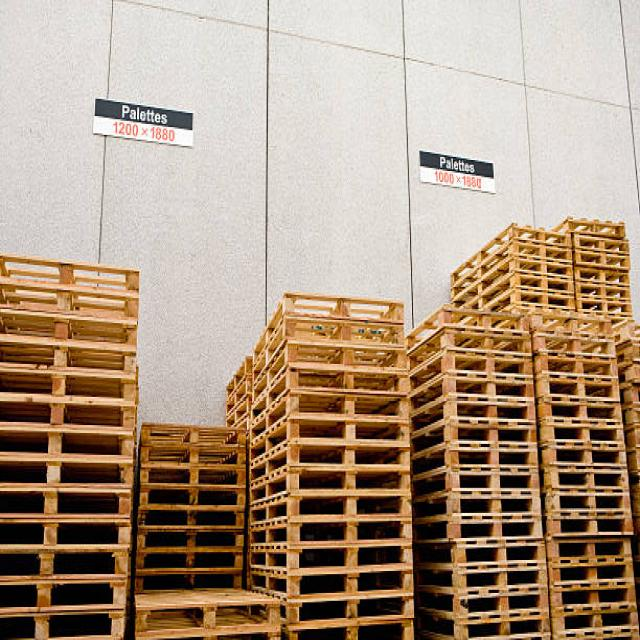Wooden-Pallets: (0, 201, 638, 639), (253, 295, 405, 366), (250, 372, 411, 426), (287, 489, 411, 529), (133, 599, 277, 633), (447, 443, 542, 478), (135, 418, 245, 448), (533, 347, 616, 384), (137, 460, 243, 488), (136, 504, 245, 530), (443, 302, 528, 334), (136, 550, 244, 574)
